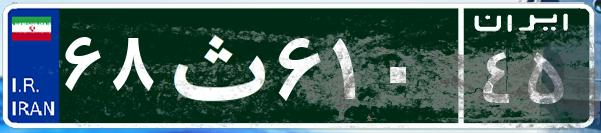0: (385, 28, 445, 110)
1: (330, 28, 385, 110)
4: (475, 38, 525, 113)
5: (525, 38, 570, 115)
6: (273, 28, 330, 110), (57, 26, 110, 107)
8: (110, 28, 158, 105)
ث: (158, 15, 273, 115)
